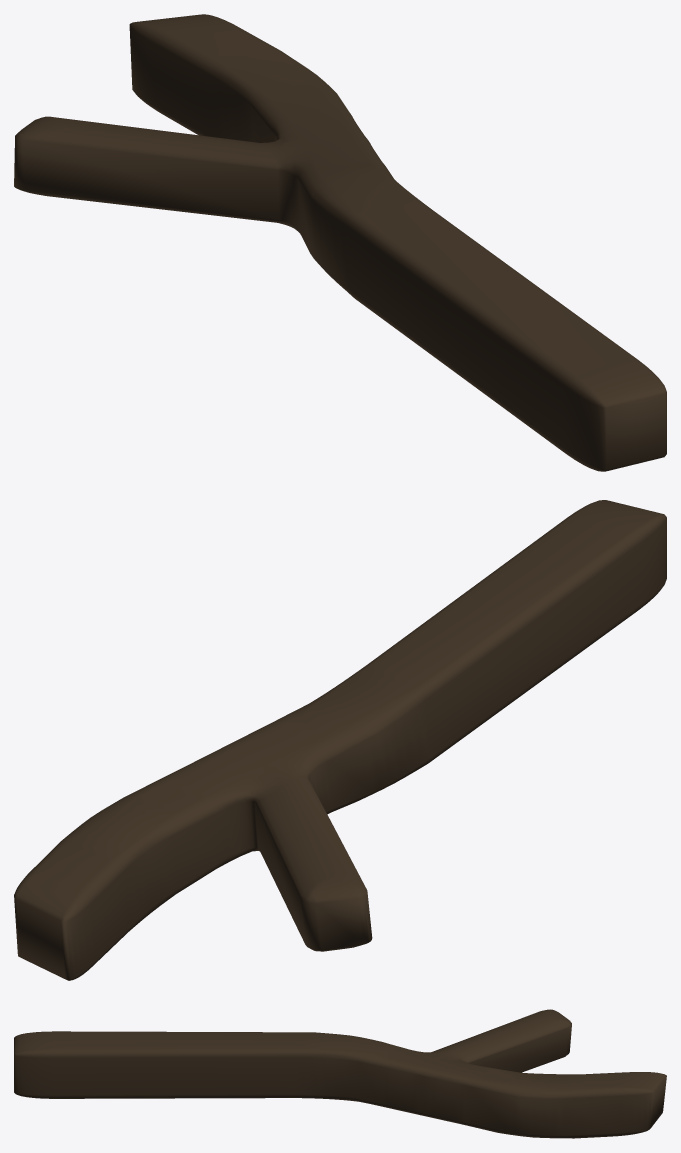
File: branch.glb
3 views of the same model, one above another, from view 1: azimuth 30°, elevation 25°; view 2: azimuth 150°, elevation 25°; view 3: azimuth 270°, elevation 25° (orthographic). The views are drawn at different scales.
Visible parts, largest first — view 1: Cube; view 2: Cube; view 3: Cube.
Boxes of the visible parts, x1,y1,x2,y2 form: Cube: [14, 14, 666, 471]; Cube: [14, 500, 666, 980]; Cube: [14, 1009, 666, 1138].
Bounding box in the file's own units: 1.62 × 0.5852 × 5.15.
